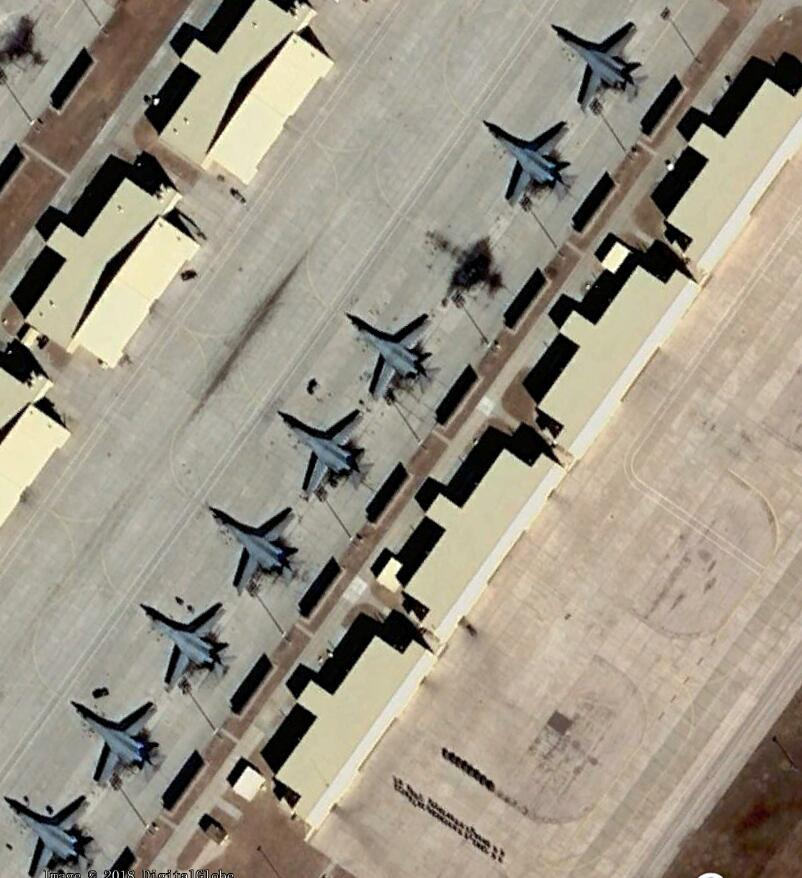A10: (549, 16, 650, 111), (137, 597, 234, 693), (345, 309, 441, 404), (67, 696, 166, 788), (273, 408, 370, 498), (207, 503, 302, 594), (479, 118, 575, 208), (7, 793, 99, 878)
